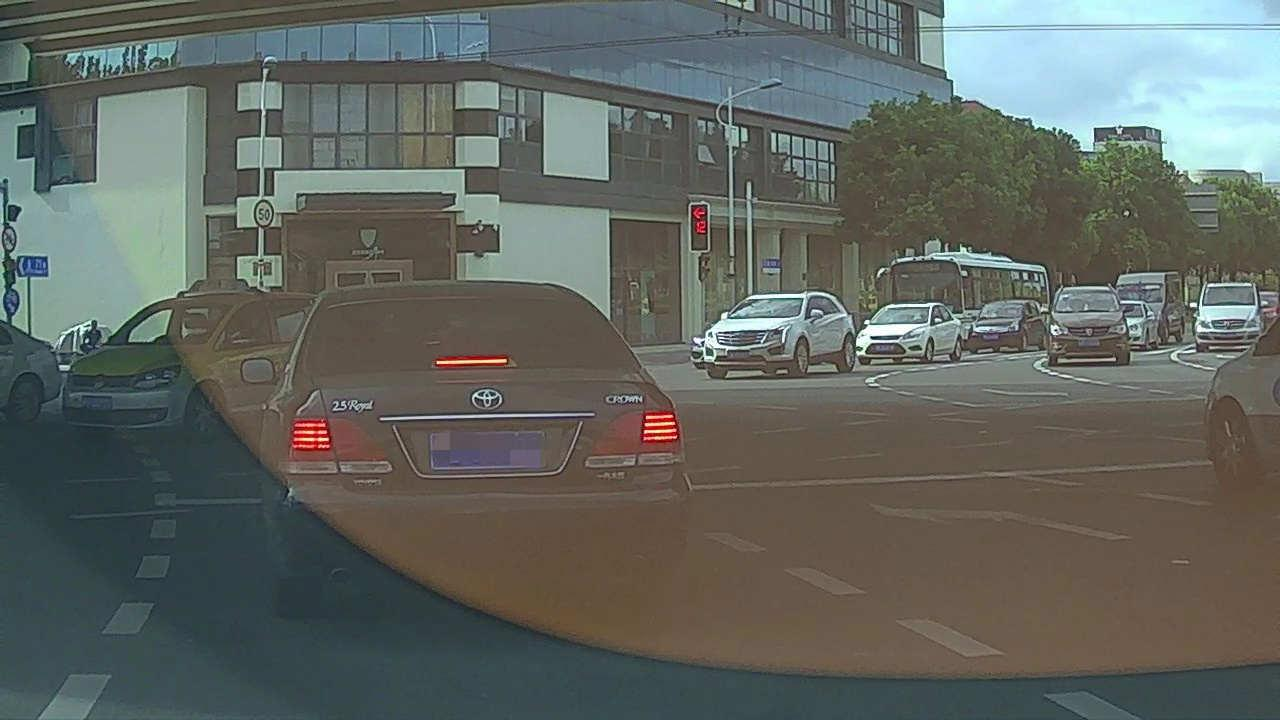traffic_light: (693, 204, 709, 251)
